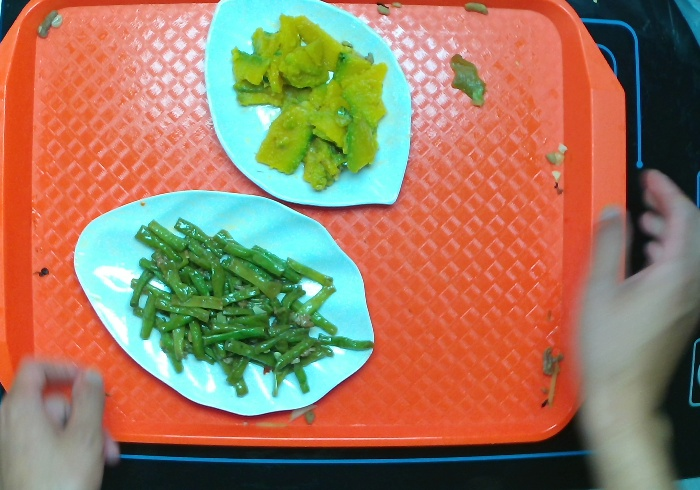RJxy-Bai_Ye_Pan: (70, 186, 381, 420)
RJxy-Da_Du_Pan: (200, 1, 416, 213)
